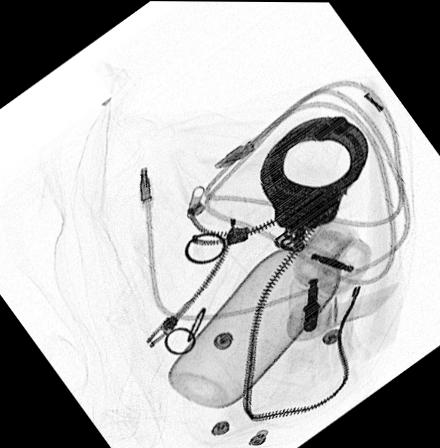HandCuffs: (255, 114, 370, 254)
